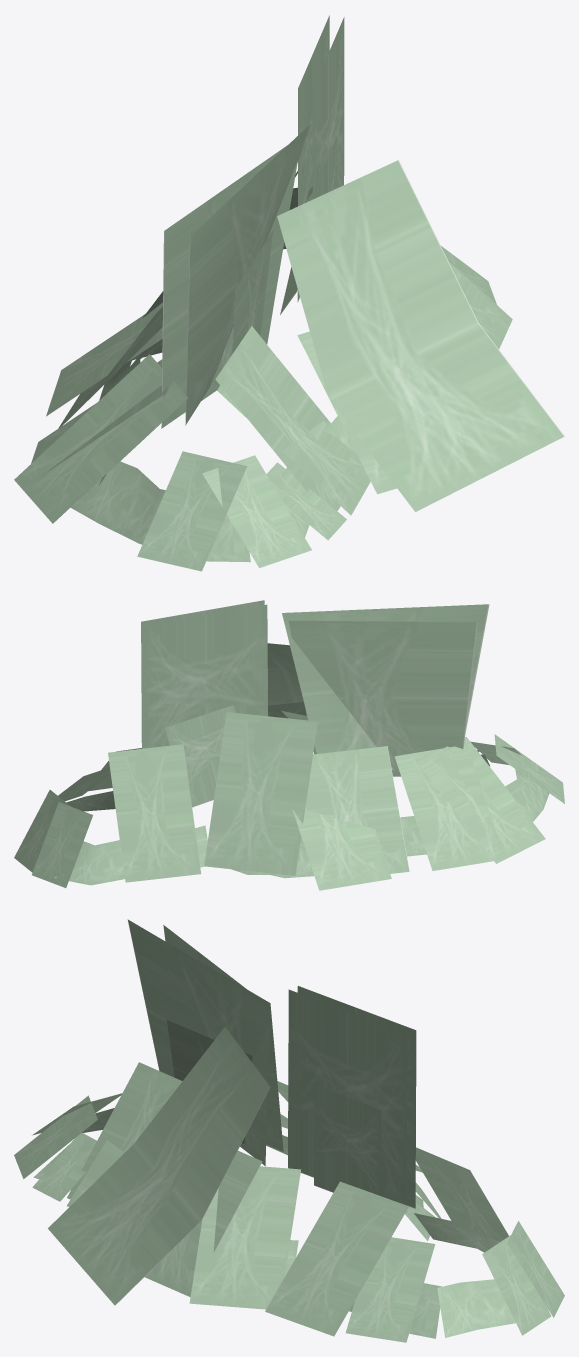
Rendered from 6001_Item_zhizhuwang_1.FBX.
3 views of the same model, one above another, from view 1: azimuth 30°, elevation 25°; view 2: azimuth 150°, elevation 25°; view 3: azimuth 270°, elevation 25° (orthographic). The views are drawn at different scales.
Parts seen in each view (by area): view 1: 6001_Item_zhizhuwang_1; view 2: 6001_Item_zhizhuwang_1; view 3: 6001_Item_zhizhuwang_1.
Part boxes in pixels (left/top/right/bottom): 6001_Item_zhizhuwang_1: left=14, top=15, right=564, bottom=571; 6001_Item_zhizhuwang_1: left=14, top=600, right=564, bottom=890; 6001_Item_zhizhuwang_1: left=14, top=919, right=564, bottom=1342.
Bounding box in the file's own units: 1162 × 603 × 1158.
